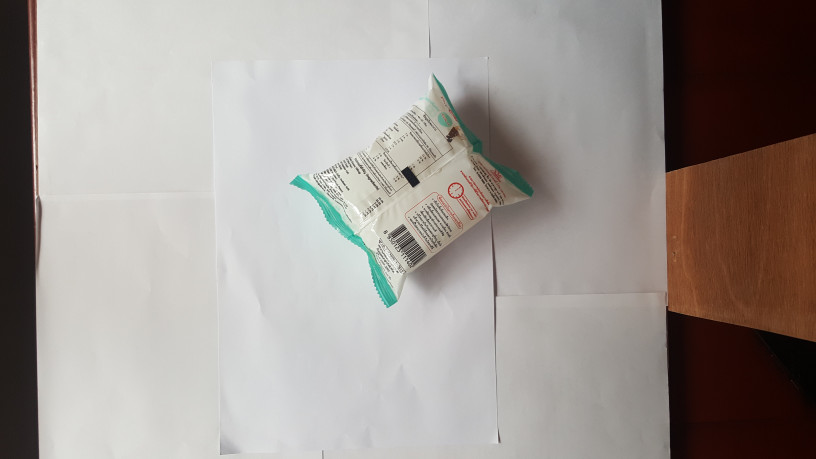farmhouse-sweetsandwich-chocolate: (285, 72, 538, 307)
